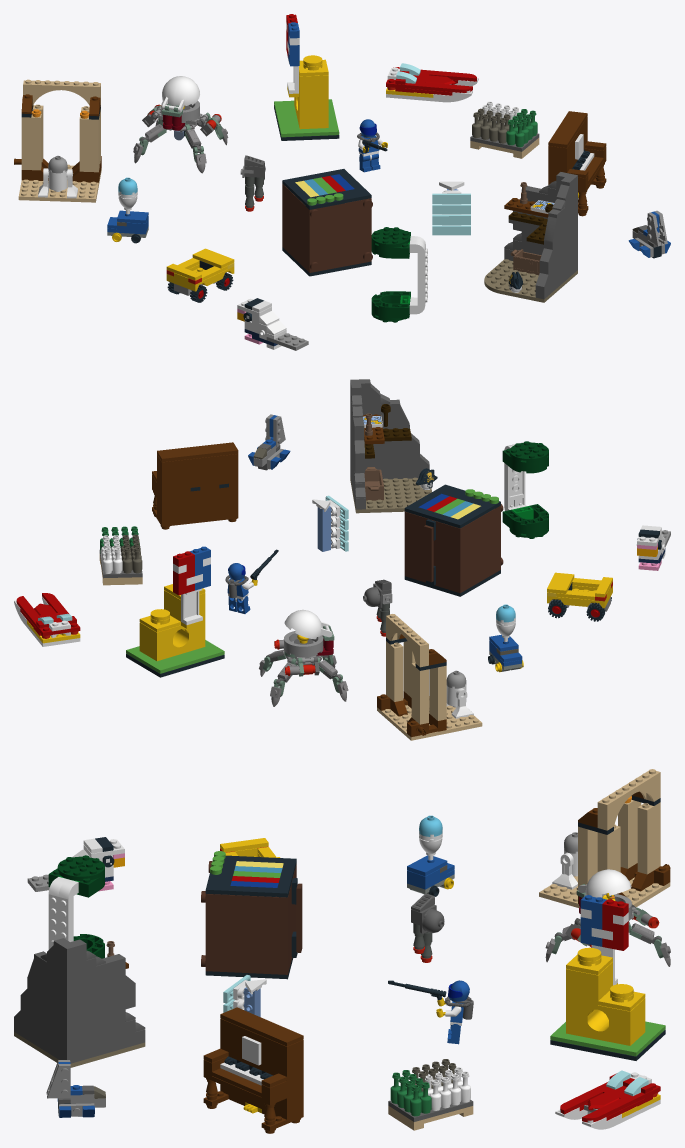
3 views of the same model, one above another, from view 1: azimuth 30°, elevation 25°; view 2: azimuth 150°, elevation 25°; view 3: azimuth 270°, elevation 25° (orthographic). The views are drawn at different scales.
Parts seen in each view (by area): view 1: 2454b (×2), 3009 (×2), 41539, 3308a, 18990, 713a, 60474, 4738b; view 2: 2454b (×3), 3009 (×2), 41539, 2456 (×2), 3308a, 3007, 18990, 713a, 68325, 60474, 3035, 4162 (+4 smaller); view 3: 2454b (×4), 3009 (×5), 6636 (×3), 3010 (×3), 3308a, 4162 (×2), 41539, 3008, 3795, 18990, 60474, 2456 (+4 smaller).
Part boxes in pixels (x1=…): 2454b (×2): x1=21, y1=114, x2=99, y2=172; 3009 (×2): x1=305, y1=210, x2=362, y2=251; 41539: x1=18, y1=164, x2=101, y2=202; 3308a: x1=23, y1=79, x2=100, y2=106; 18990: x1=162, y1=76, x2=199, y2=112; 713a: x1=484, y1=270, x2=560, y2=302; 60474: x1=371, y1=227, x2=410, y2=247; 4738b: x1=510, y1=249, x2=541, y2=275; 2454b (×3): x1=386, y1=641, x2=446, y2=724; 3009 (×2): x1=171, y1=458, x2=228, y2=486; 41539: x1=377, y1=696, x2=482, y2=740; 2456 (×2): x1=412, y1=525, x2=495, y2=571; 3308a: x1=386, y1=614, x2=428, y2=667; 3007: x1=157, y1=500, x2=238, y2=519; 18990: x1=284, y1=609, x2=332, y2=639; 713a: x1=390, y1=477, x2=431, y2=511; 68325: x1=284, y1=630, x2=323, y2=657; 60474: x1=509, y1=441, x2=548, y2=462; 3035: x1=350, y1=477, x2=395, y2=513; 4162: x1=159, y1=446, x2=238, y2=462; 2454b (×4): x1=578, y1=799, x2=660, y2=889; 3009 (×5): x1=20, y1=907, x2=276, y2=1051; 6636 (×3): x1=212, y1=1033, x2=645, y2=1120; 3010 (×3): x1=60, y1=965, x2=125, y2=1045; 3308a: x1=597, y1=769, x2=660, y2=830; 4162 (×2): x1=220, y1=1007, x2=303, y2=1046; 41539: x1=539, y1=876, x2=670, y2=907; 3008: x1=60, y1=1029, x2=145, y2=1063; 3795: x1=48, y1=894, x2=70, y2=949; 18990: x1=578, y1=869, x2=631, y2=897; 60474: x1=57, y1=855, x2=104, y2=880; 2456: x1=205, y1=945, x2=276, y2=961.
Bounding box in the file's own units: 1097 × 248 × 1112.
